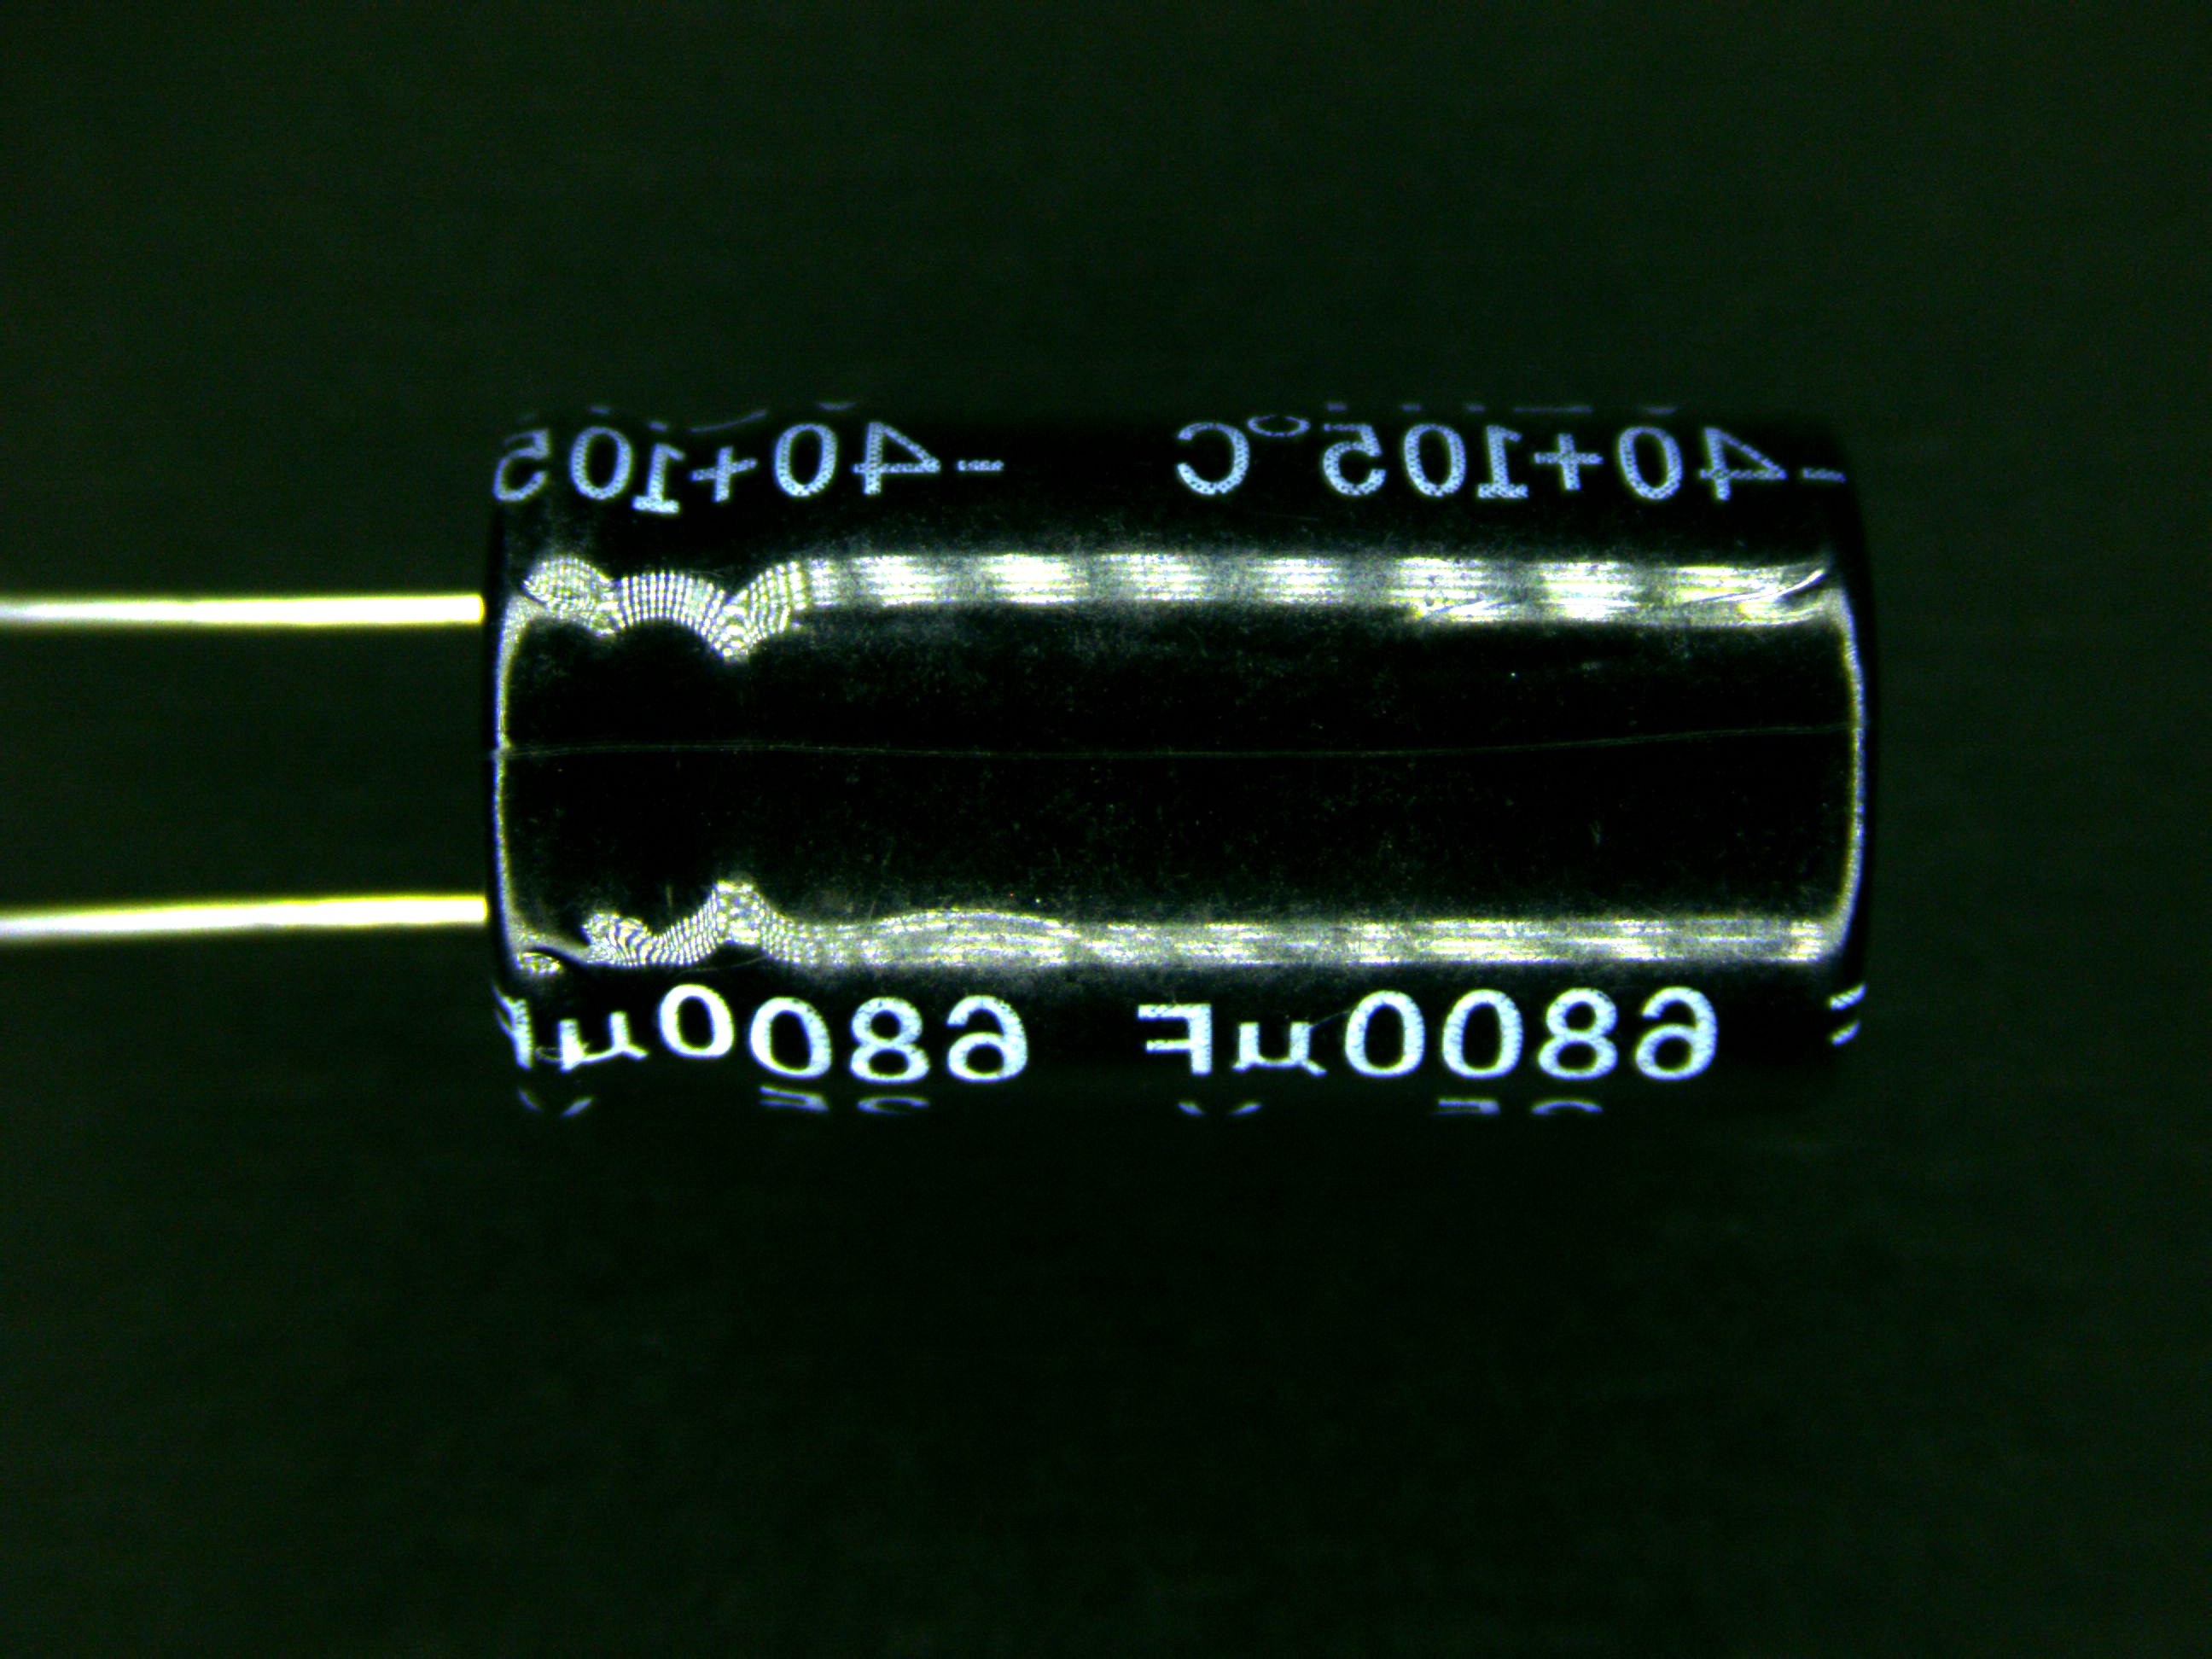c3: (171, 399, 1892, 1131)
